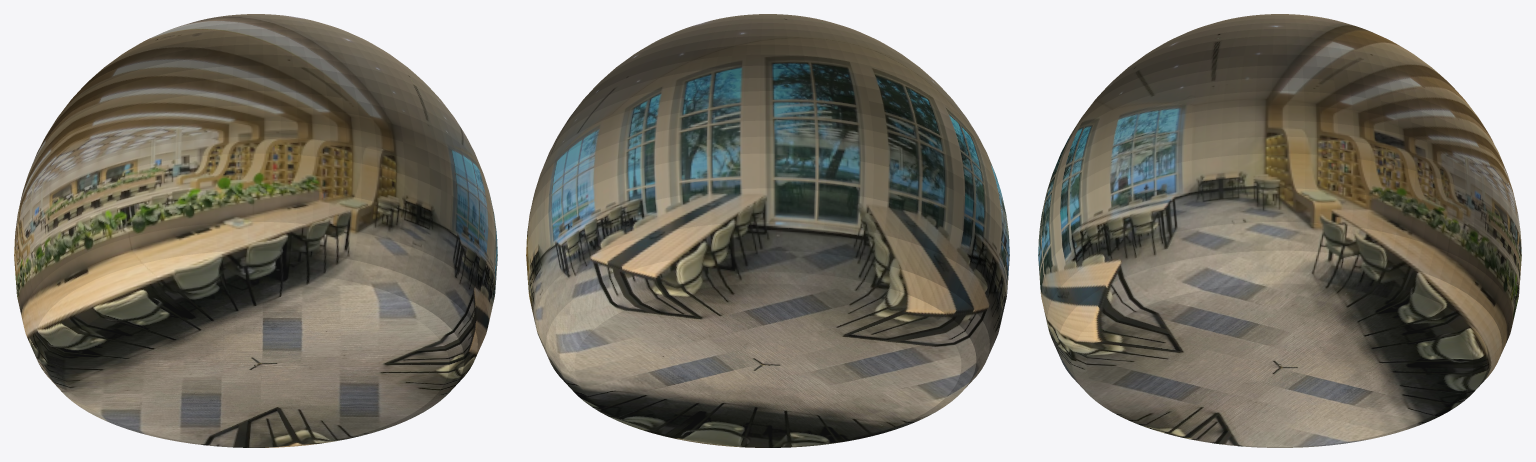
The model's file is library-study-026.glb.
3 views of the same model, side by side, from view 1: azimuth 30°, elevation 25°; view 2: azimuth 150°, elevation 25°; view 3: azimuth 270°, elevation 25° (orthographic).
Bounding box in the file's own units: 2 × 1.5 × 2.
1 material, 1 textured.
